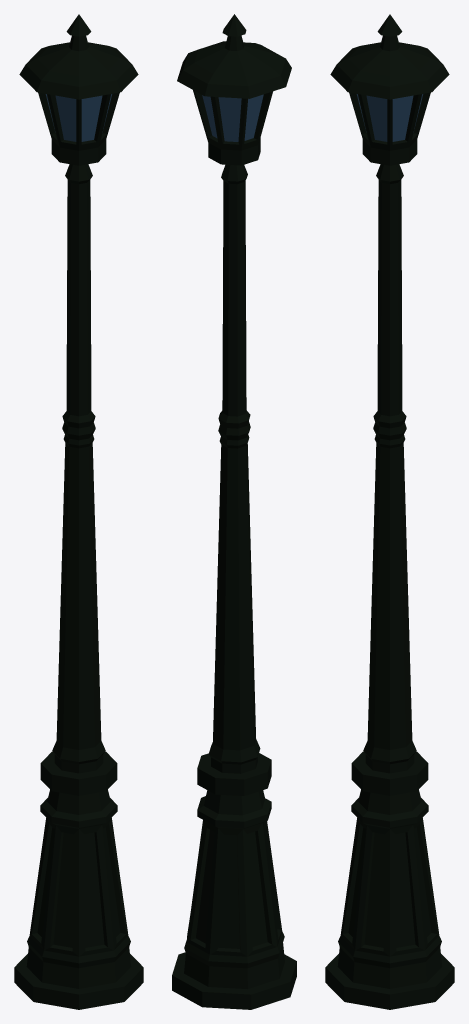
Rendered from Streetlight_Single.glb.
3 renders of one model, left to right at view 1: azimuth 90°, elevation 25°; view 2: azimuth 150°, elevation 25°; view 3: azimuth 270°, elevation 25°, orthographic.
Visible parts, largest first — view 1: Streetlight_Single_Cylinder.003; view 2: Streetlight_Single_Cylinder.003; view 3: Streetlight_Single_Cylinder.003.
Part boxes in pixels (x1,y1,x2,y2): Streetlight_Single_Cylinder.003: (14, 14, 143, 1009); Streetlight_Single_Cylinder.003: (172, 14, 296, 1009); Streetlight_Single_Cylinder.003: (325, 14, 454, 1009).
Bounding box in the file's own units: 0.1317 × 1.09 × 0.1317.
